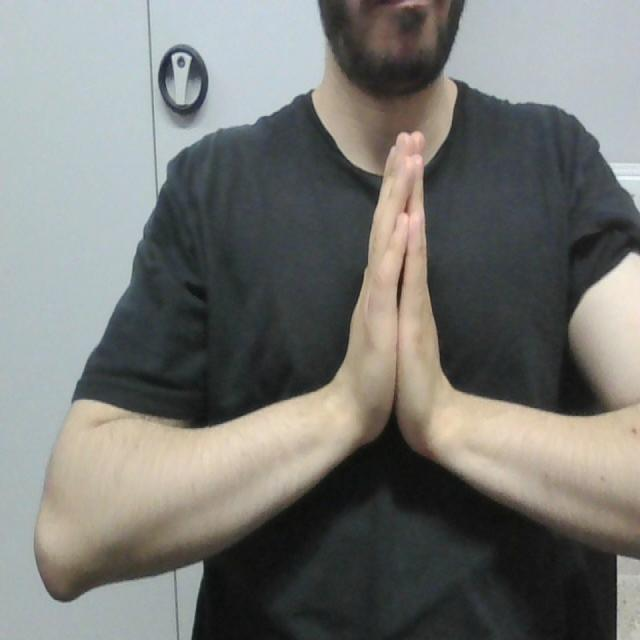Ozur-Dilemek: (340, 123, 458, 467)
